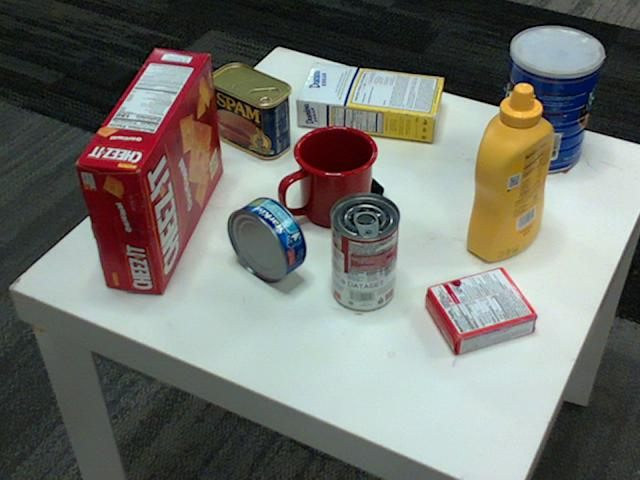cracker_box: (75, 45, 223, 291)
gelatin_box: (424, 268, 538, 355)
large_marker: (323, 137, 382, 198)
master_chef_can: (496, 26, 602, 173)
mug: (282, 123, 379, 225)
mustard_bottle: (465, 84, 554, 260)
potted_meat_can: (207, 64, 291, 159)
sugar_box: (297, 62, 446, 141)
tomato_soup_can: (330, 192, 401, 311)
tuna_fish_can: (228, 197, 307, 283)
